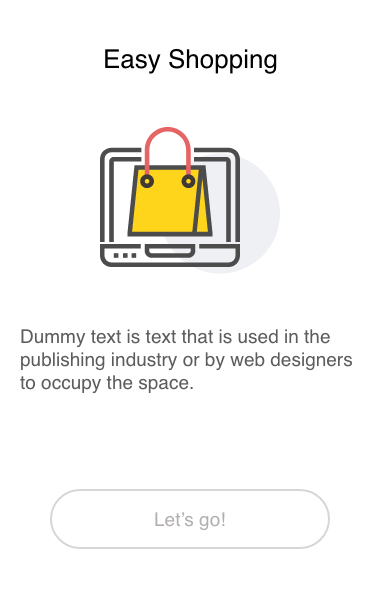Image: (100, 127, 281, 274)
Text: (20, 329, 353, 394), (105, 48, 277, 76)
TextButton: (50, 489, 330, 550)
